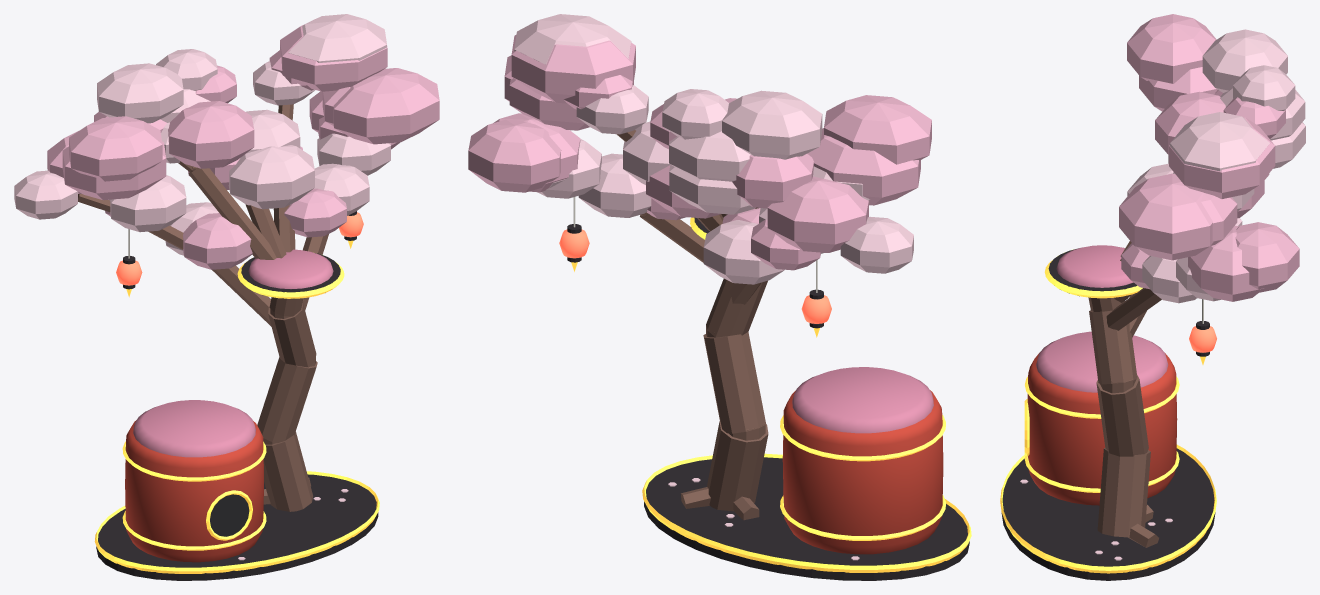
File: lux_cat_sakura.glb
3 views of the same model, side by side, from view 1: azimuth 30°, elevation 25°; view 2: azimuth 150°, elevation 25°; view 3: azimuth 270°, elevation 25° (orthographic). The views are drawn at different scales.
Parts seen in each view (by area): view 1: lux_cat_sakura; view 2: lux_cat_sakura; view 3: lux_cat_sakura.
Part boxes in pixels (x1,y1,x2,y2): lux_cat_sakura: [14, 14, 439, 580]; lux_cat_sakura: [468, 14, 971, 580]; lux_cat_sakura: [1000, 14, 1305, 580].
Size of the model in its own units: 1.9 by 2.05 by 1.21.
